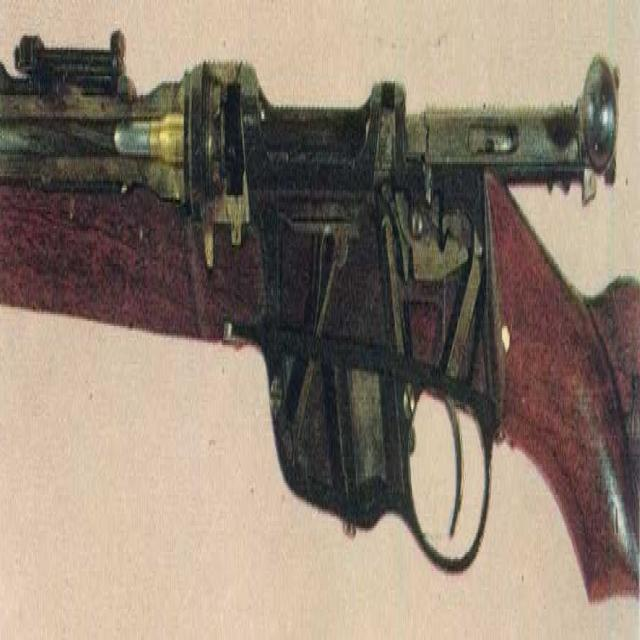heavyweapon: (1, 27, 640, 579)
